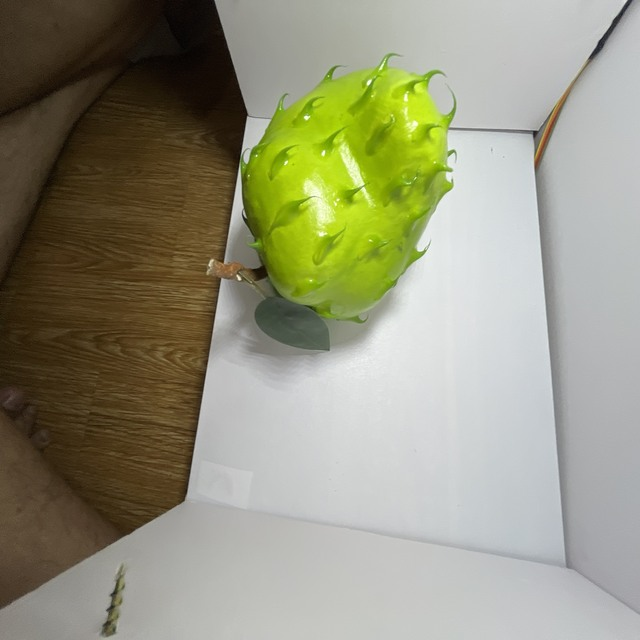Man cau: (226, 45, 466, 333)
